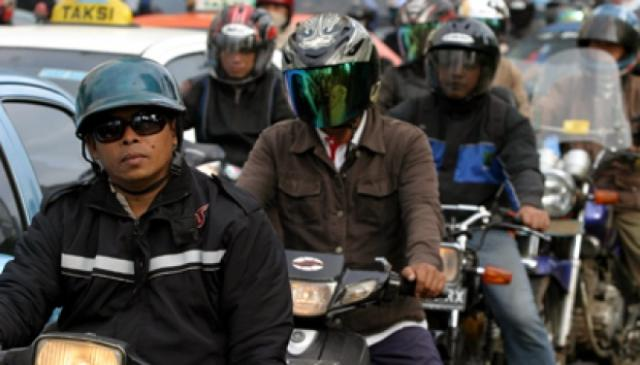helm: (74, 57, 189, 181), (282, 13, 382, 131), (423, 18, 501, 100), (207, 1, 279, 89), (576, 3, 640, 82), (396, 1, 453, 63), (456, 1, 511, 41), (508, 1, 537, 35)
motor: (524, 146, 640, 365), (269, 243, 448, 365), (424, 200, 554, 365)
